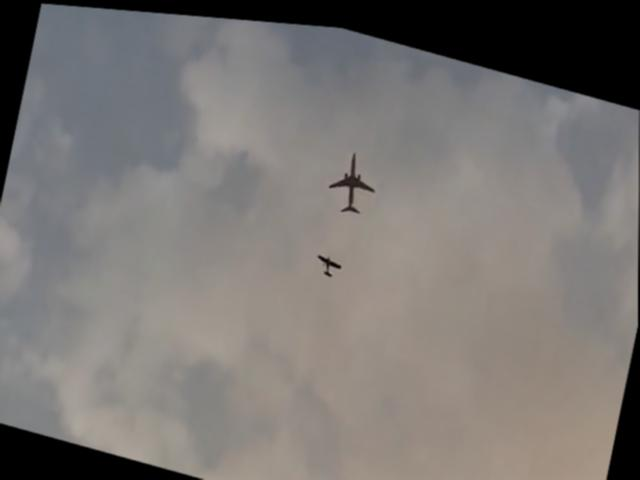plane: (326, 143, 379, 215), (318, 249, 343, 273)
